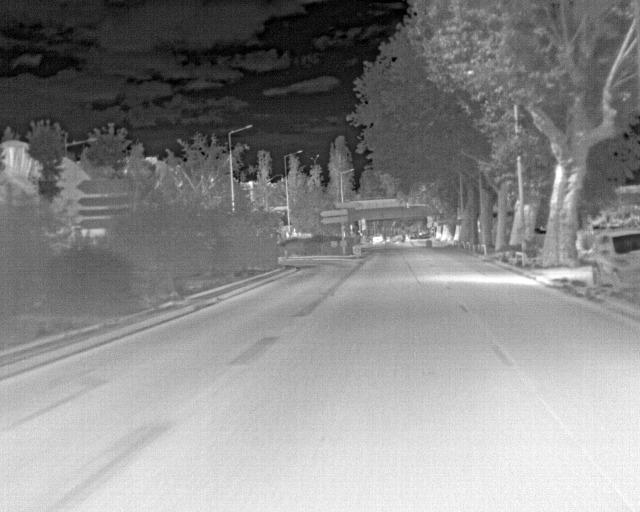car: (590, 227, 639, 291), (372, 234, 383, 245)
light: (407, 203, 409, 208)
sign: (76, 179, 133, 195), (77, 218, 132, 230), (77, 196, 133, 207), (77, 208, 133, 217), (320, 216, 348, 225), (320, 209, 348, 217)
